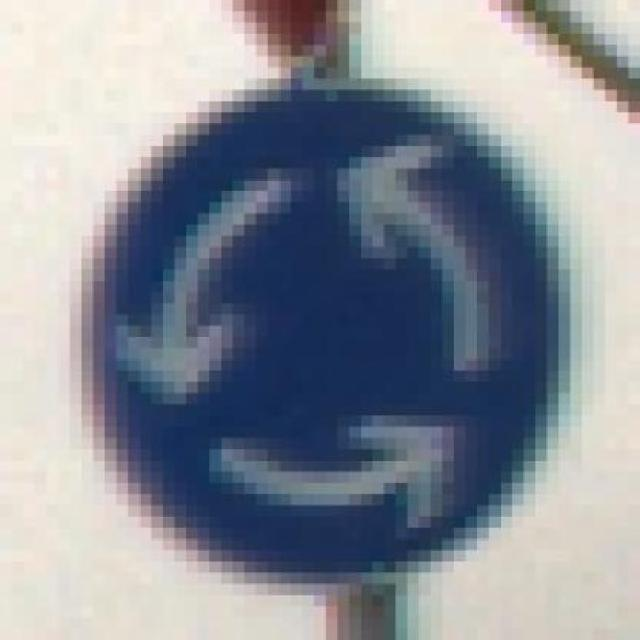Round-About: (58, 78, 605, 584)
